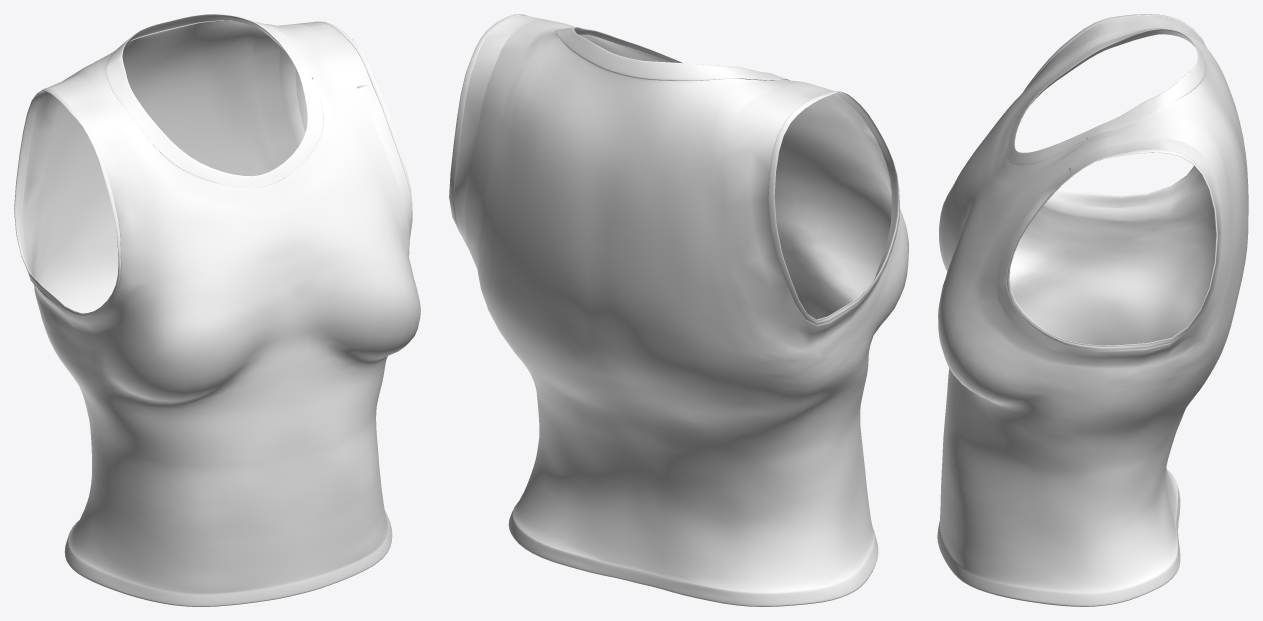
The model's file is Jersey.glb.
3 renders of one model, left to right at view 1: azimuth 30°, elevation 25°; view 2: azimuth 150°, elevation 25°; view 3: azimuth 270°, elevation 25°, orthographic. The views are drawn at different scales.
Parts seen in each view (by area): view 1: sando_slim.001; view 2: sando_slim.001; view 3: sando_slim.001.
Part boxes in pixels (box(x1,y1,x2,y2)): sando_slim.001: box(14, 14, 420, 606); sando_slim.001: box(449, 14, 908, 606); sando_slim.001: box(937, 14, 1248, 606).
Size of the model in its own units: 6.2 by 9.21 by 5.38.
Materials: 1 (1 with a texture image).
